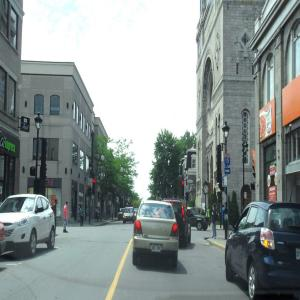Vehicle-registration-plate: (152, 243, 163, 253), (297, 250, 300, 262)
